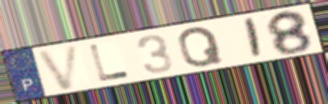3: (136, 34, 174, 74)
8: (264, 8, 317, 57)
I: (244, 16, 264, 61)
L: (87, 43, 132, 83)
Q: (176, 25, 226, 69)
V: (34, 42, 82, 92)
